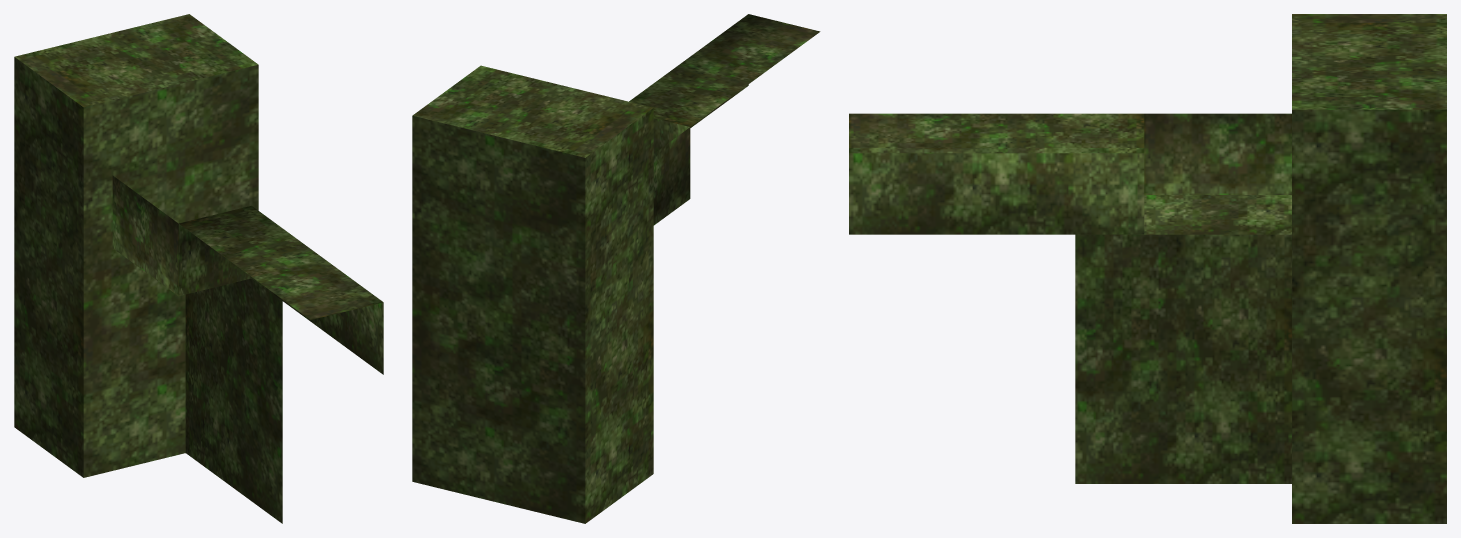
File: OVERHILL_A_01_OBJECT210.fbx
3 renders of one model, left to right at view 1: azimuth 30°, elevation 25°; view 2: azimuth 150°, elevation 25°; view 3: azimuth 270°, elevation 25°, orthographic. The views are drawn at different scales.
Visible parts, largest first — view 1: OVERHILL_A_01_OBJECT210; view 2: OVERHILL_A_01_OBJECT210; view 3: OVERHILL_A_01_OBJECT210.
Part boxes in pixels (left/top/right/bottom): OVERHILL_A_01_OBJECT210: left=14, top=14, right=383, bottom=523; OVERHILL_A_01_OBJECT210: left=412, top=14, right=820, bottom=523; OVERHILL_A_01_OBJECT210: left=849, top=14, right=1446, bottom=523.
Size of the model in its own units: 17912 by 36219 by 47345.
Materials: 1 (1 with a texture image).
